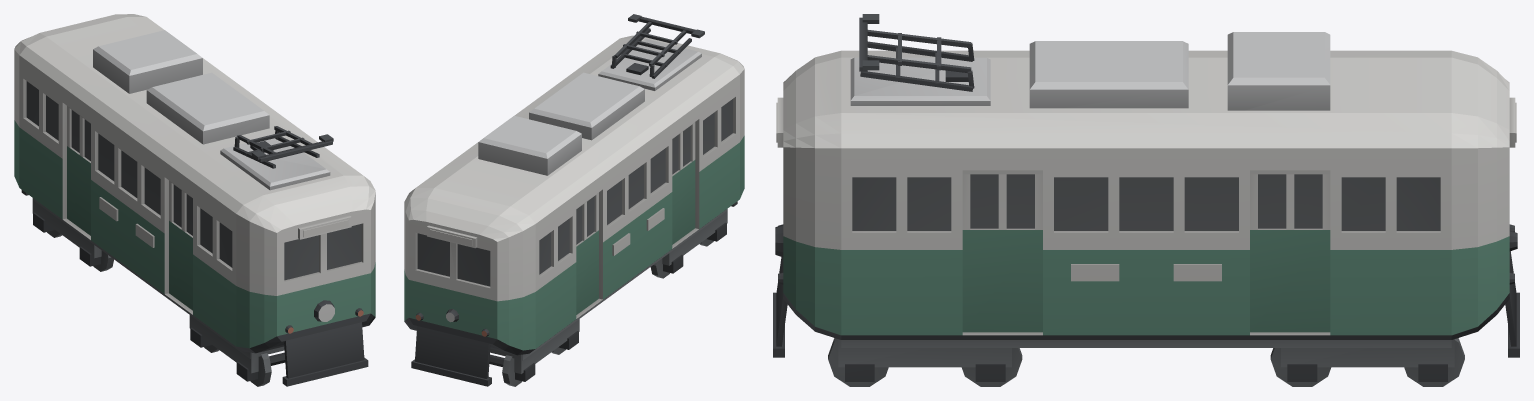
The model's file is tram.glb.
The picture shows the model from 3 angles, left to right: view 1: azimuth 30°, elevation 25°; view 2: azimuth 150°, elevation 25°; view 3: azimuth 270°, elevation 25°; orthographic projection. The views are drawn at different scales.
Visible parts, largest first — view 1: tram; view 2: tram; view 3: tram.
Part boxes in pixels (left/top/right/bottom): tram: left=14, top=14, right=375, bottom=386; tram: left=404, top=14, right=744, bottom=386; tram: left=773, top=14, right=1519, bottom=386.
Size of the model in its own units: 2.4 by 3.76 by 8.
